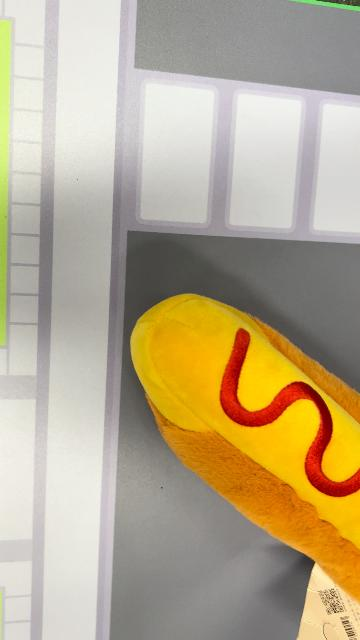hotdog: (130, 291, 358, 605)
